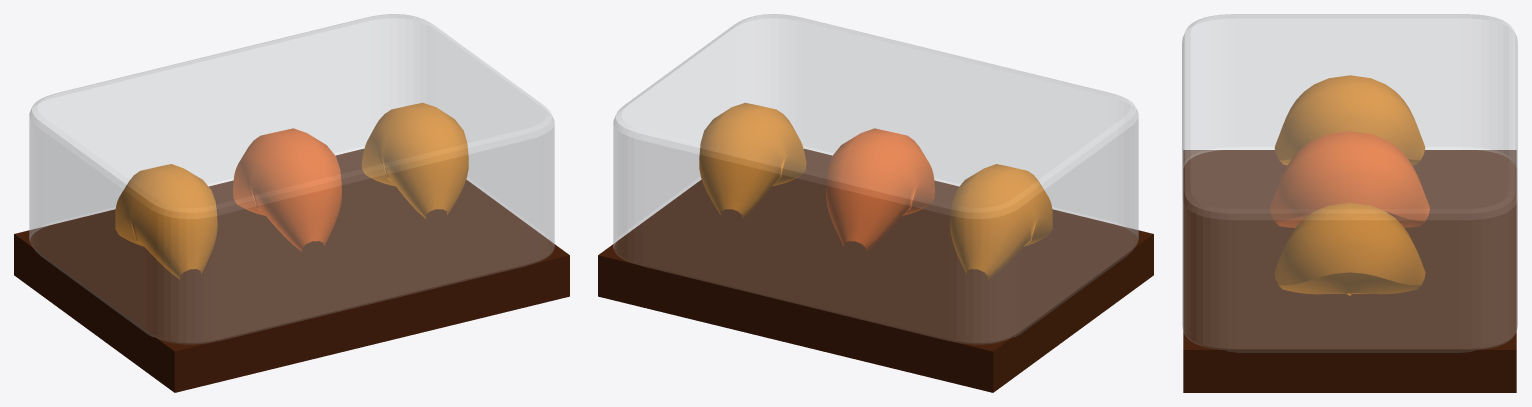
Rendered from pastry-box.glb.
3 renders of one model, left to right at view 1: azimuth 30°, elevation 25°; view 2: azimuth 150°, elevation 25°; view 3: azimuth 270°, elevation 25°, orthographic. The views are drawn at different scales.
Parts seen in each view (by area): view 1: Clamshell_Dome, Clamshell_Base, Croissant_02, Croissant_03, Croissant_01; view 2: Clamshell_Dome, Clamshell_Base, Croissant_02, Croissant_03, Croissant_01; view 3: Clamshell_Dome, Clamshell_Base, Croissant_03, Croissant_02, Croissant_01.
Boxes of the visible parts, bbox=[...] form: Clamshell_Dome: bbox=[29, 14, 554, 344]; Clamshell_Base: bbox=[14, 148, 569, 392]; Croissant_02: bbox=[233, 128, 341, 251]; Croissant_03: bbox=[361, 102, 468, 218]; Croissant_01: bbox=[115, 164, 217, 279]; Clamshell_Dome: bbox=[613, 14, 1138, 344]; Clamshell_Base: bbox=[598, 148, 1153, 392]; Croissant_02: bbox=[826, 128, 934, 251]; Croissant_03: bbox=[699, 102, 806, 218]; Croissant_01: bbox=[950, 164, 1052, 279]; Clamshell_Dome: bbox=[1182, 14, 1517, 352]; Clamshell_Base: bbox=[1183, 150, 1516, 392]; Croissant_03: bbox=[1274, 203, 1425, 295]; Croissant_02: bbox=[1270, 131, 1429, 227]; Croissant_01: bbox=[1274, 75, 1425, 165].
Bounding box in the file's own units: 0.222 × 0.093 × 0.156.
